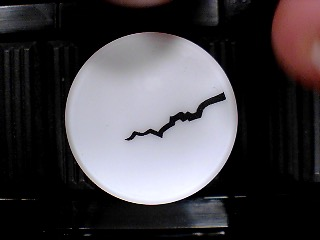CRACK: (64, 31, 239, 206)
